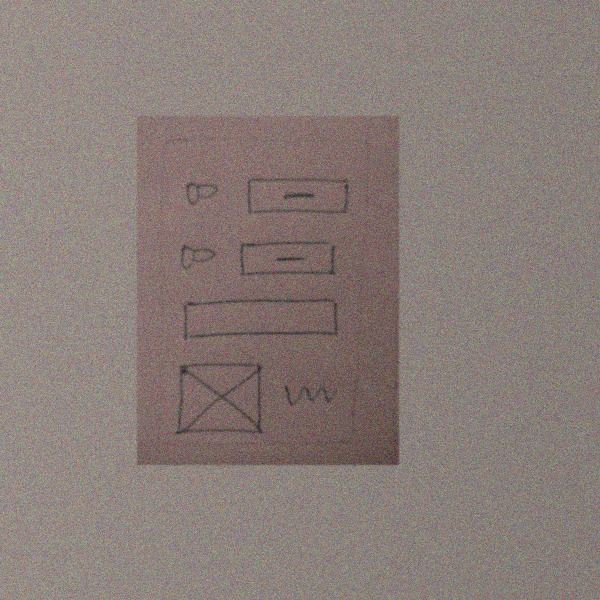button: (244, 173, 351, 222), (236, 232, 343, 281)
image: (173, 358, 268, 439)
switch: (181, 173, 220, 210), (178, 238, 217, 274)
text: (280, 379, 339, 411)
text_input: (178, 296, 342, 340)
